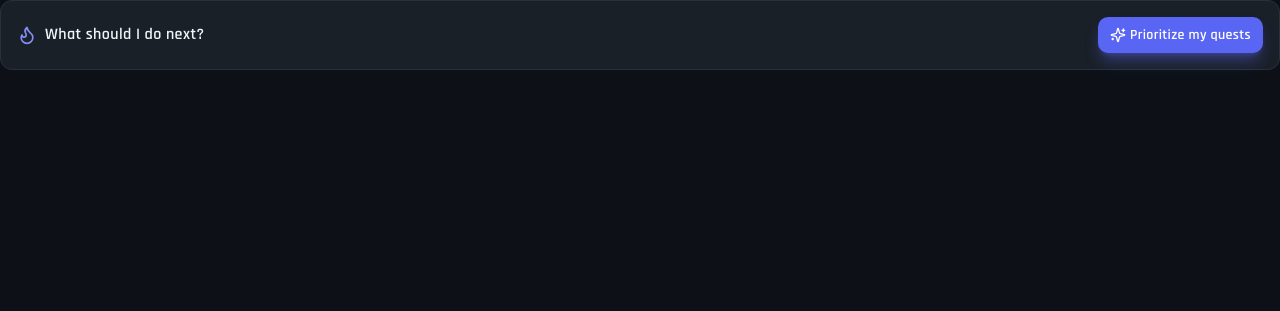
PriorityPanel › offers no more when the first ranking already holds every open quest
Step 1. Click the button "Prioritize my quests" → (1180, 35), box [1098,17,1263,53]
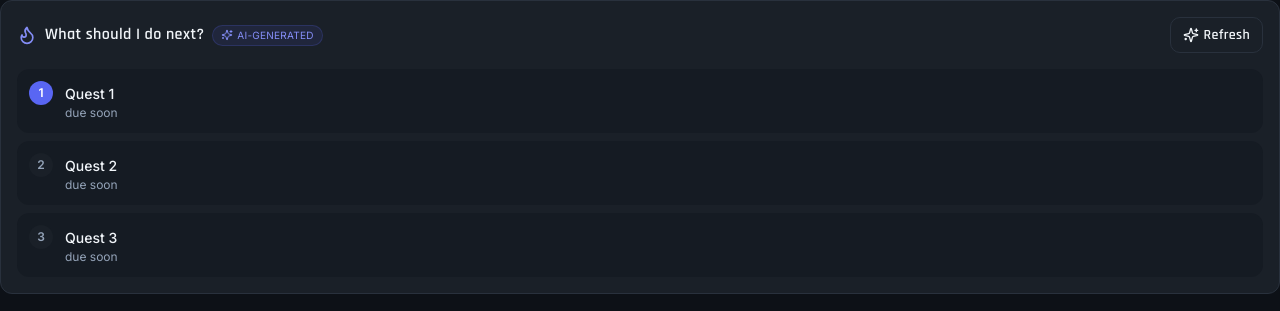
Result: the button "Quest 3" is shown at [65,228,117,248]
